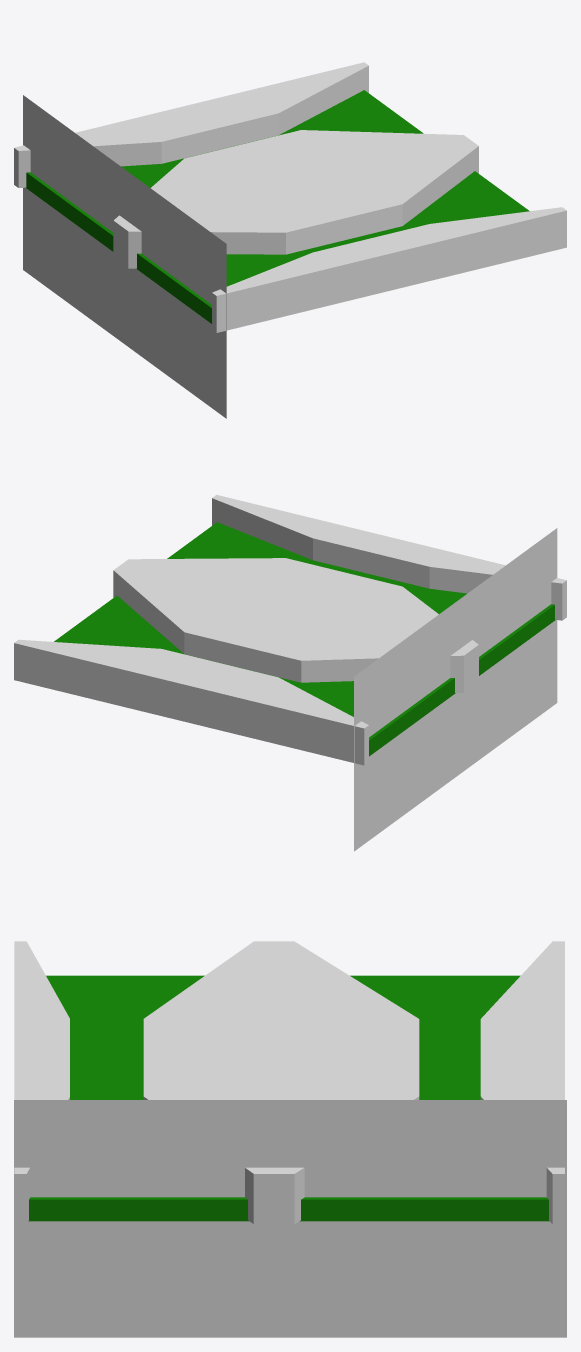
The model's file is obstacle.glb.
The picture shows the model from 3 angles, top to bottom: view 1: azimuth 30°, elevation 25°; view 2: azimuth 150°, elevation 25°; view 3: azimuth 270°, elevation 25°; orthographic projection. The views are drawn at different scales.
Parts seen in each view (by area): view 1: obj_snap.002, Cube.005, Cube.003, Cube.004, Cube; view 2: obj_snap.002, Cube.005, Cube.004, Cube, Cube.003; view 3: obj_snap.003, Cube.005, Cube, Cube.004, Cube.003.
Boxes of the visible parts, x1,y1,x2,y2 form: obj_snap.002: (23, 95, 226, 418); Cube.005: (113, 130, 478, 268); Cube.003: (212, 207, 566, 332); Cube.004: (14, 62, 368, 187); Cube: (26, 90, 529, 323); obj_snap.002: (354, 528, 557, 851); Cube.005: (113, 558, 478, 692); Cube.004: (14, 639, 368, 765); Cube: (54, 522, 555, 756); Cube.003: (212, 494, 566, 620); obj_snap.003: (14, 1100, 566, 1337); Cube.005: (143, 941, 419, 1224); Cube: (28, 975, 549, 1221); Cube.004: (480, 941, 564, 1224); Cube.003: (14, 941, 69, 1224).
Bounding box in the file's own units: 4.19 × 2 × 4.21.
